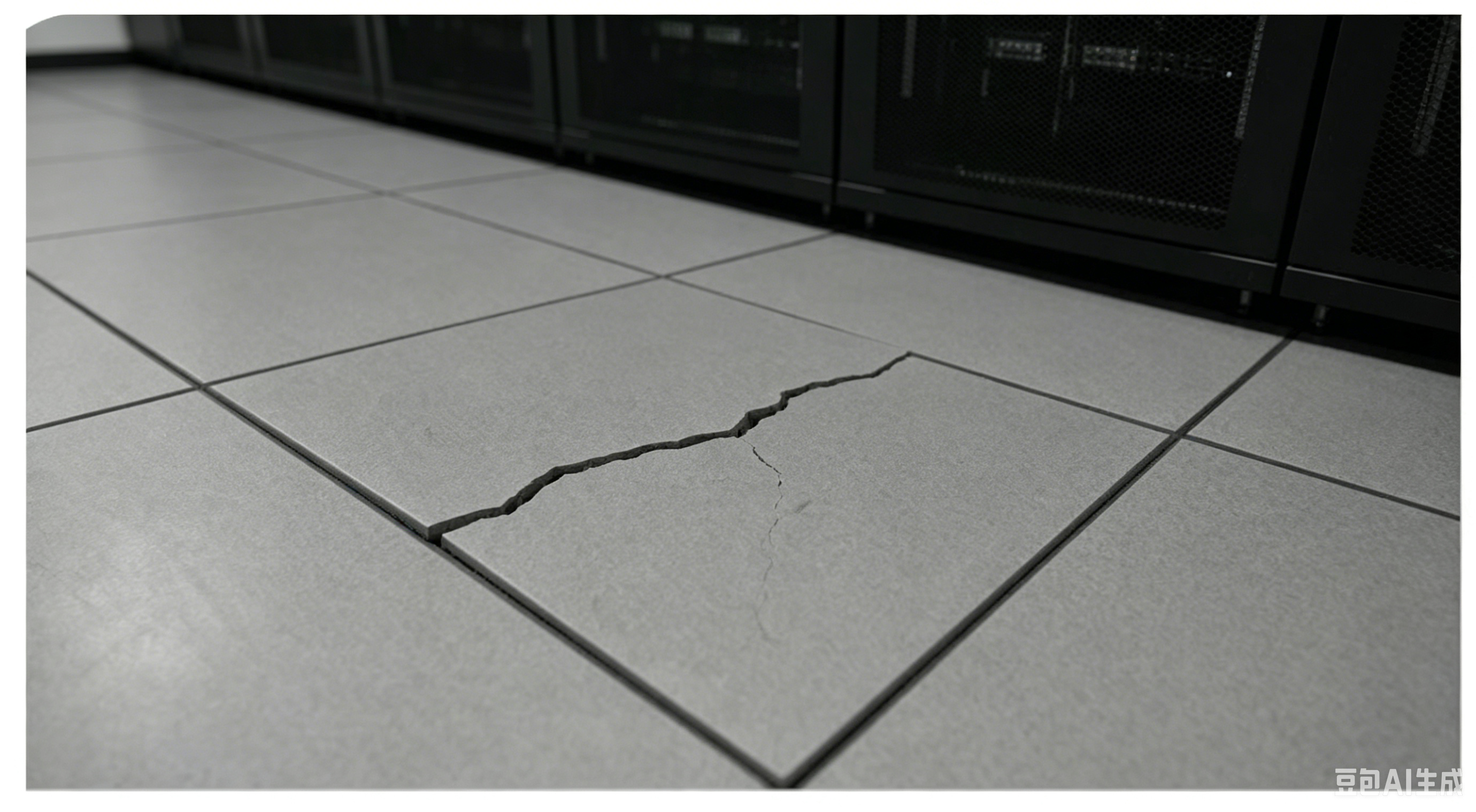floor_defect: (633, 303, 955, 443), (365, 446, 759, 553)
